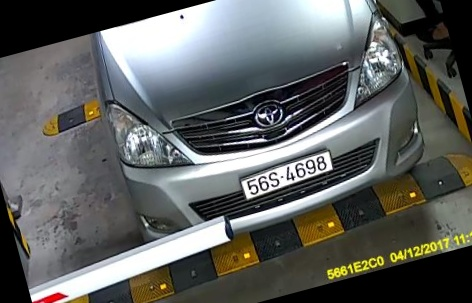plate: (237, 142, 336, 209)
